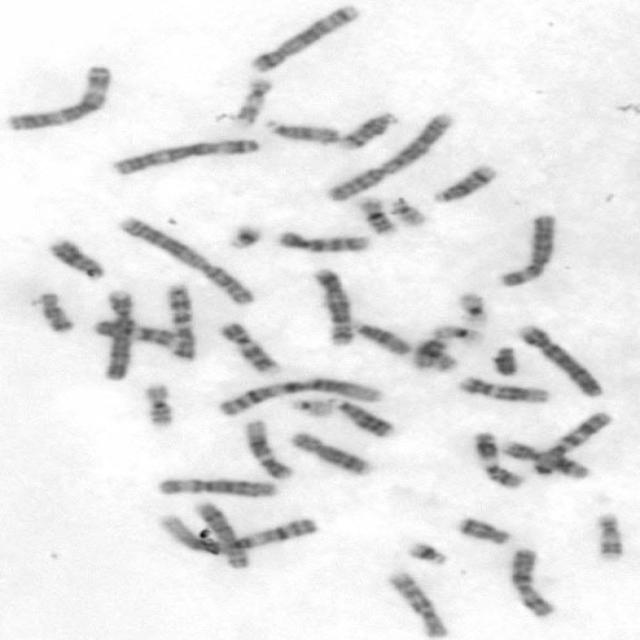A1: (153, 510, 324, 556), (213, 374, 386, 417)
A2: (113, 212, 259, 306), (318, 110, 454, 202)
A3: (0, 61, 114, 132), (105, 133, 262, 178)
B4: (514, 321, 606, 398), (95, 286, 136, 382)
B5: (244, 0, 366, 75), (306, 265, 356, 347)
C10: (379, 566, 451, 639), (273, 228, 373, 254)
C11: (497, 437, 591, 480), (469, 429, 526, 489)
C12: (238, 417, 294, 481), (452, 372, 553, 405)
C6: (494, 210, 560, 288), (152, 474, 282, 499)
C7: (525, 408, 614, 477), (161, 280, 198, 362)
C8: (186, 496, 252, 570), (286, 428, 376, 477)
C9: (214, 318, 282, 375), (88, 314, 180, 352)
D13: (42, 233, 108, 280), (326, 396, 398, 438)
D14: (427, 160, 499, 204), (336, 106, 402, 151)
D15: (348, 317, 414, 357), (260, 116, 342, 146)
E16: (355, 193, 400, 237), (138, 379, 178, 428)
E17: (229, 72, 275, 126), (589, 508, 626, 562)
E18: (30, 288, 78, 334), (452, 513, 513, 546)
F19: (451, 288, 492, 328), (426, 320, 486, 344)
F20: (417, 344, 468, 376), (410, 338, 450, 370)
G21: (400, 537, 451, 566), (222, 221, 266, 250)
G22: (385, 195, 429, 228), (285, 394, 336, 418)
X: (504, 544, 560, 619)
Y: (487, 342, 521, 376)
